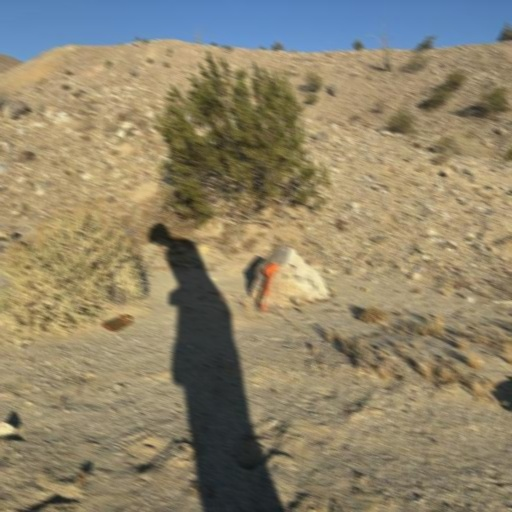mallet: (257, 256, 278, 307)
